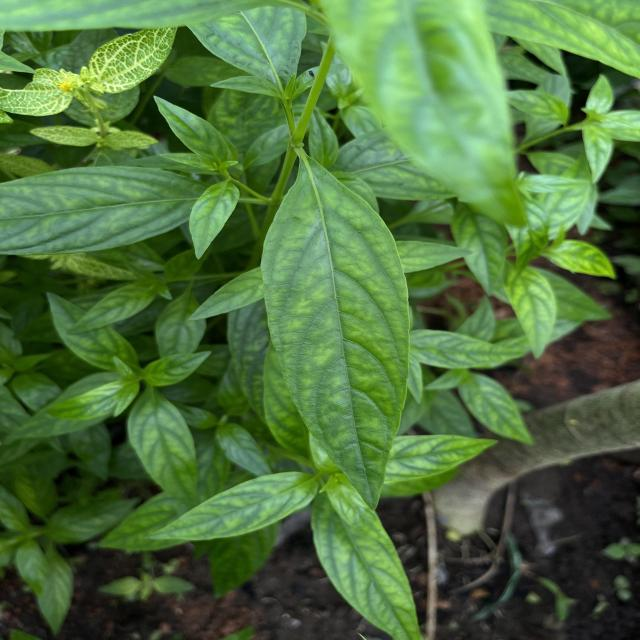Andrographis paniculata: (258, 152, 413, 514), (310, 492, 423, 640), (142, 470, 322, 542), (125, 388, 201, 512), (46, 290, 140, 372), (461, 371, 535, 446), (502, 262, 558, 359), (152, 95, 229, 165), (66, 282, 156, 334), (410, 330, 526, 370), (187, 180, 241, 260), (154, 291, 207, 358), (540, 239, 618, 281)
